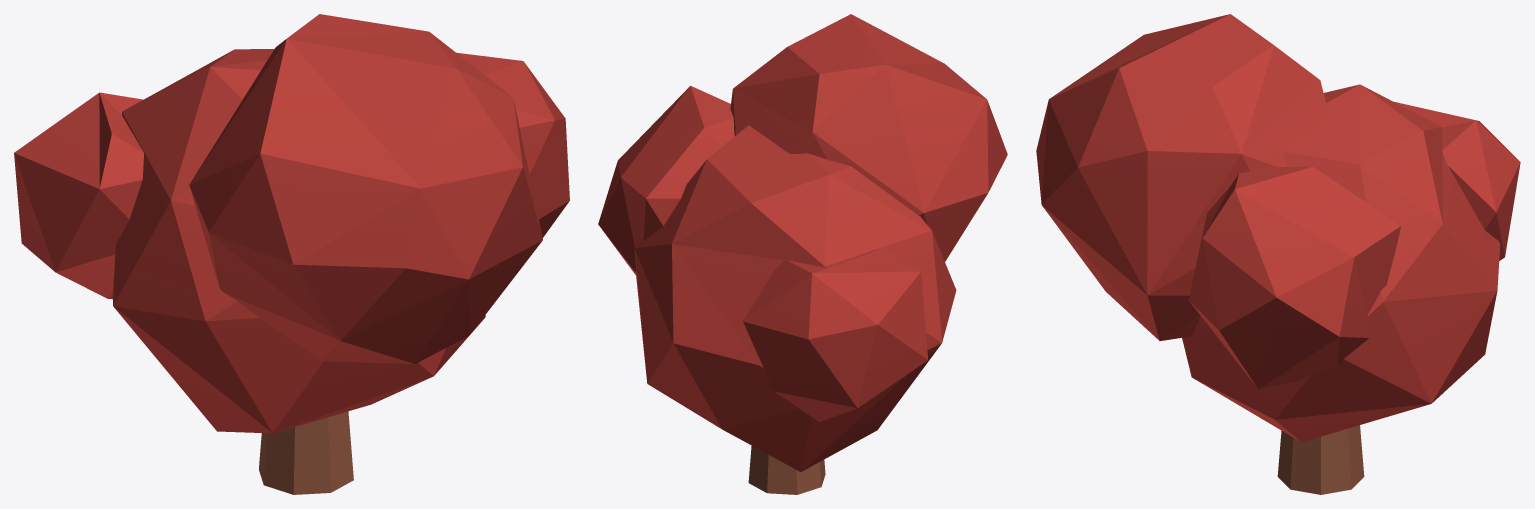
The model's file is Bush_5_gradient_red.fbx.
3 views of the same model, side by side, from view 1: azimuth 30°, elevation 25°; view 2: azimuth 150°, elevation 25°; view 3: azimuth 270°, elevation 25° (orthographic). The views are drawn at different scales.
Parts seen in each view (by area): view 1: Bush_5_gradient_red; view 2: Bush_5_gradient_red; view 3: Bush_5_gradient_red.
Part boxes in pixels (bbox=[...]): Bush_5_gradient_red: bbox=[14, 14, 569, 494]; Bush_5_gradient_red: bbox=[598, 14, 1007, 494]; Bush_5_gradient_red: bbox=[1036, 14, 1520, 494].
Size of the model in its own units: 31.34 by 32.92 by 33.43.
